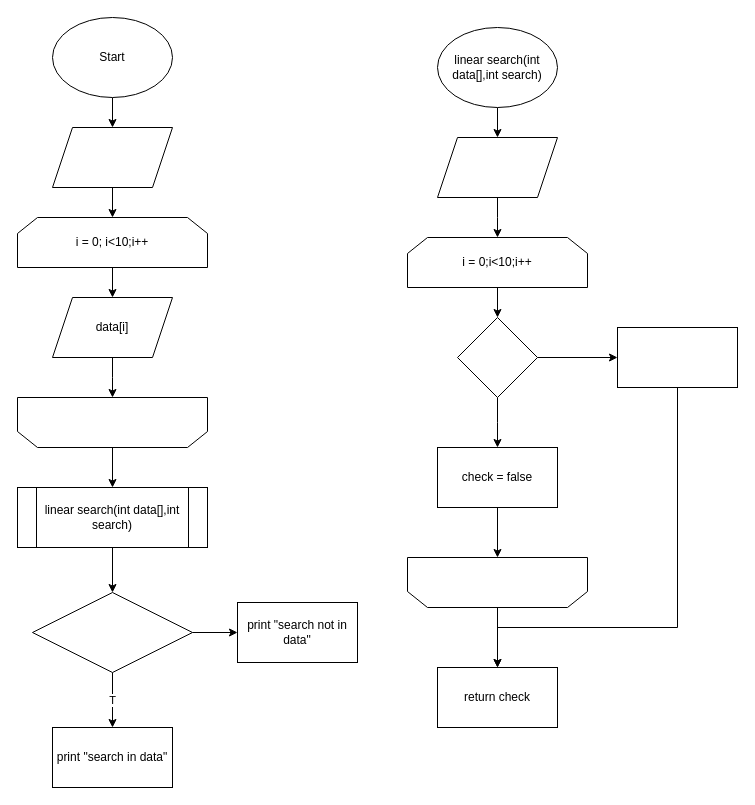
This 755x805 diagram has some shape labels left out. The shapes that lost their labels are listed below. From the top down, each one's box as (x1, y1, x2, y2) in pixels, then its label:
(52, 126, 172, 188): int data[10] int search
(436, 136, 558, 198): bool check
(456, 316, 538, 398): data[i ] == search
(616, 326, 738, 388): check= true
(32, 592, 192, 672): linear search = true?
